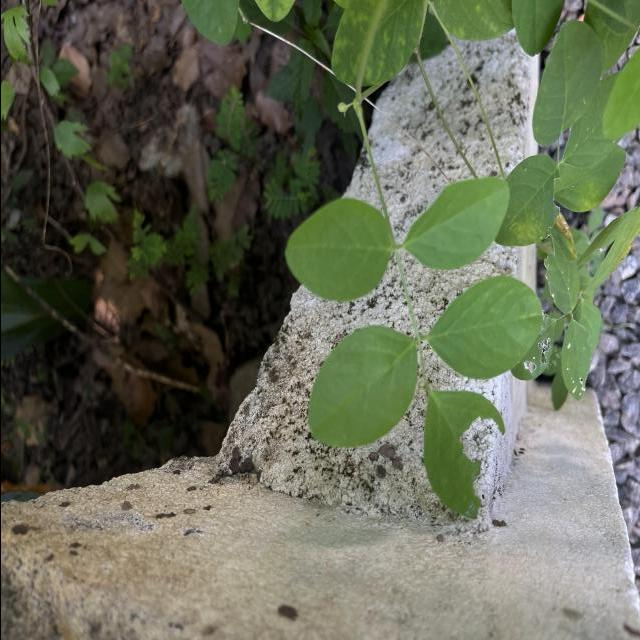Clitoria ternatea: (306, 323, 418, 449), (426, 274, 544, 382), (282, 195, 392, 302), (402, 176, 510, 271)
